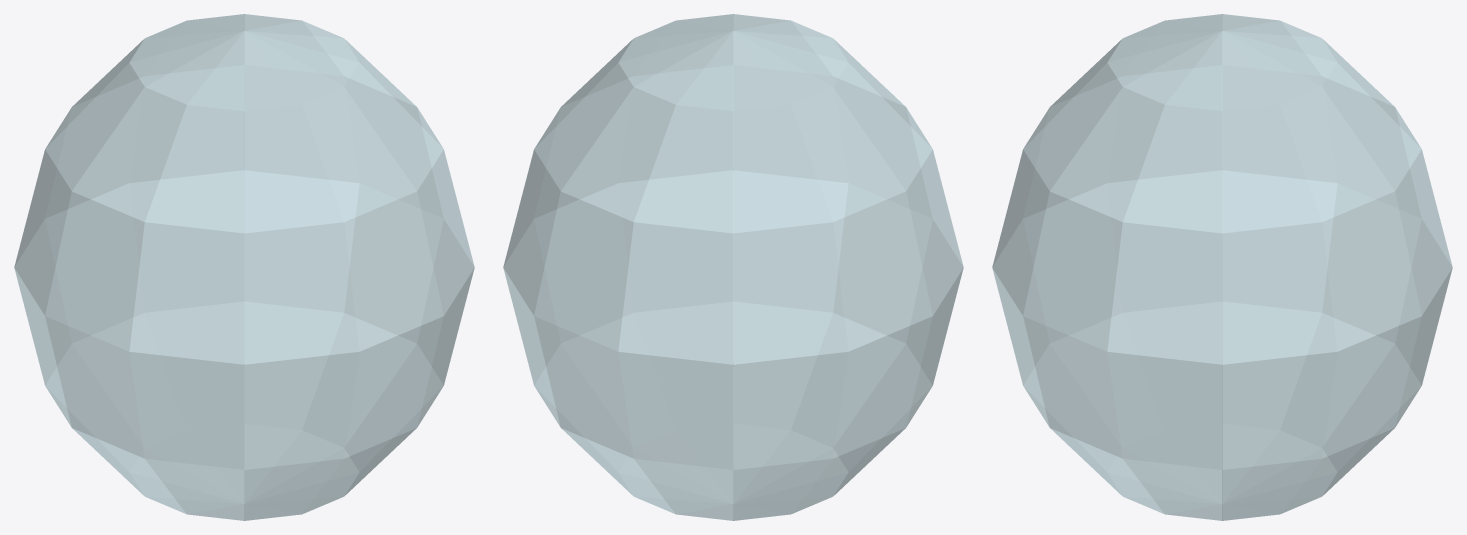
File: cosmetic_hat_brain_jar_glass.glb
The picture shows the model from 3 angles, left to right: view 1: azimuth 30°, elevation 25°; view 2: azimuth 150°, elevation 25°; view 3: azimuth 270°, elevation 25°; orthographic projection.
Parts seen in each view (by area): view 1: cosmetic_hat_brain_jar_glass; view 2: cosmetic_hat_brain_jar_glass; view 3: cosmetic_hat_brain_jar_glass.
Boxes of the visible parts, box(x1,y1,x2,y2) form: cosmetic_hat_brain_jar_glass: box(14, 14, 474, 520); cosmetic_hat_brain_jar_glass: box(503, 14, 963, 520); cosmetic_hat_brain_jar_glass: box(992, 14, 1452, 520).
Size of the model in its own units: 0.3 by 0.34 by 0.3.
1 material, 1 textured.
